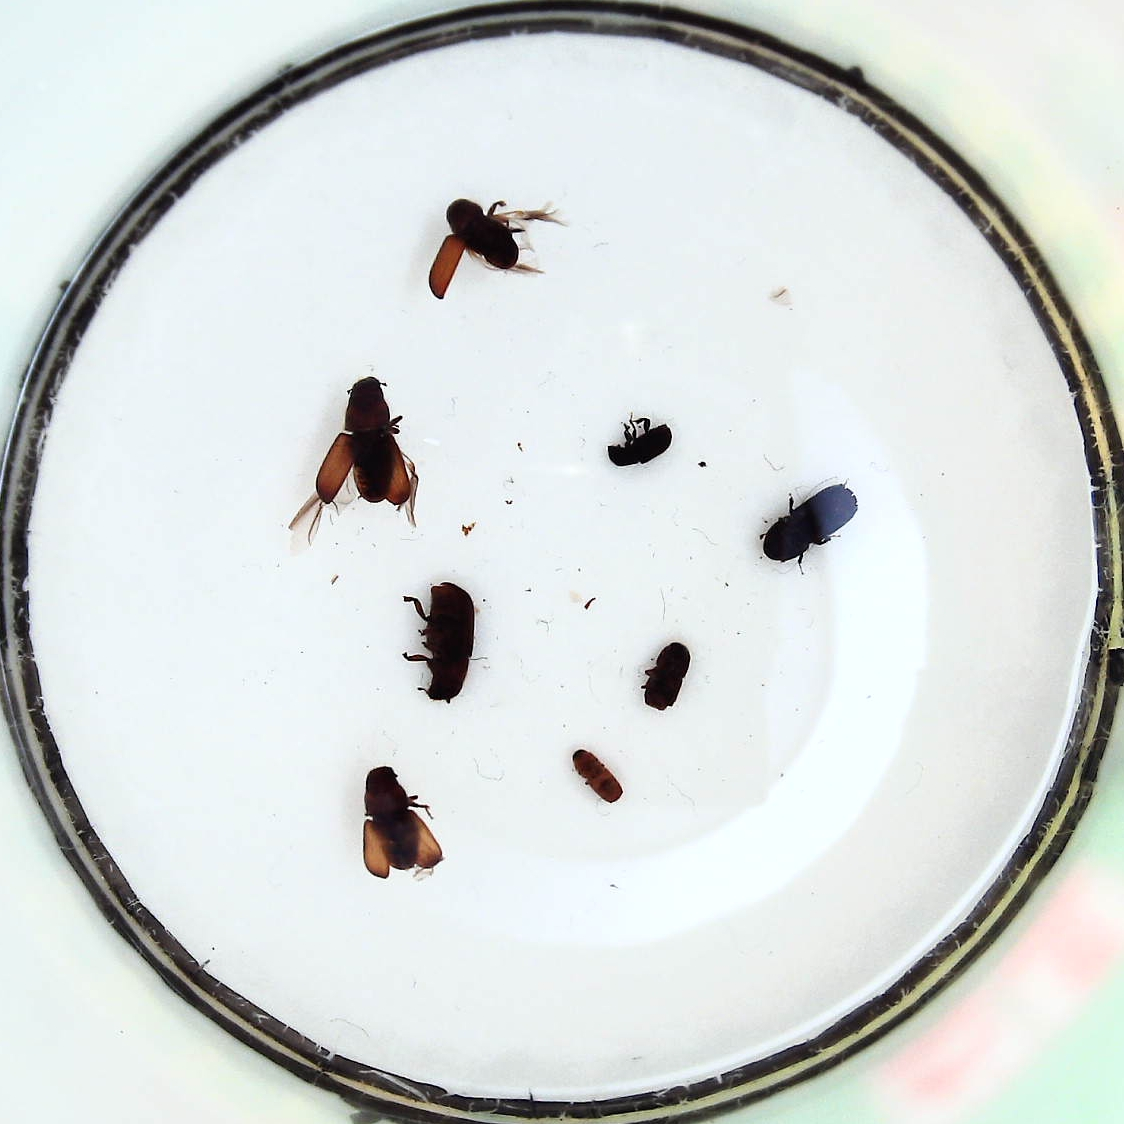Boerner: (760, 479, 860, 564)
Leconte: (312, 374, 417, 513), (428, 197, 527, 302), (358, 762, 443, 879), (402, 577, 478, 702)
Linnaeus: (638, 641, 696, 711)
acuminatus: (569, 743, 627, 803)
armandi: (604, 411, 676, 467)
